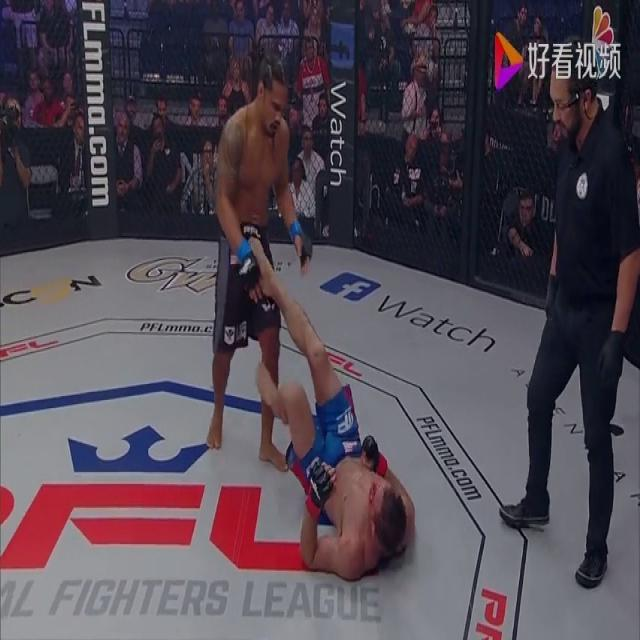fight: (207, 67, 412, 589)
non-fight: (503, 16, 639, 584)
